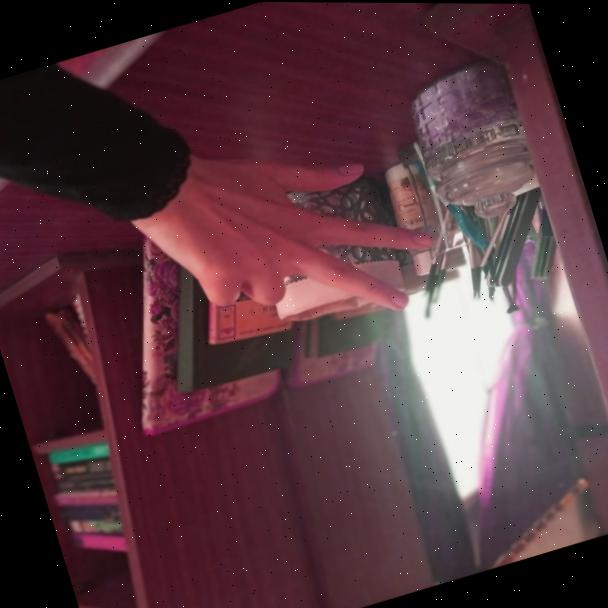three: (72, 55, 480, 399)
